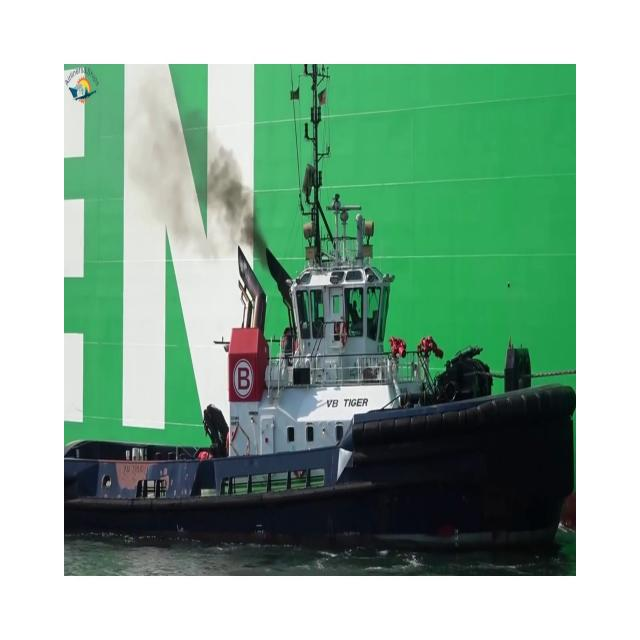OCR: (107, 65, 284, 452)
